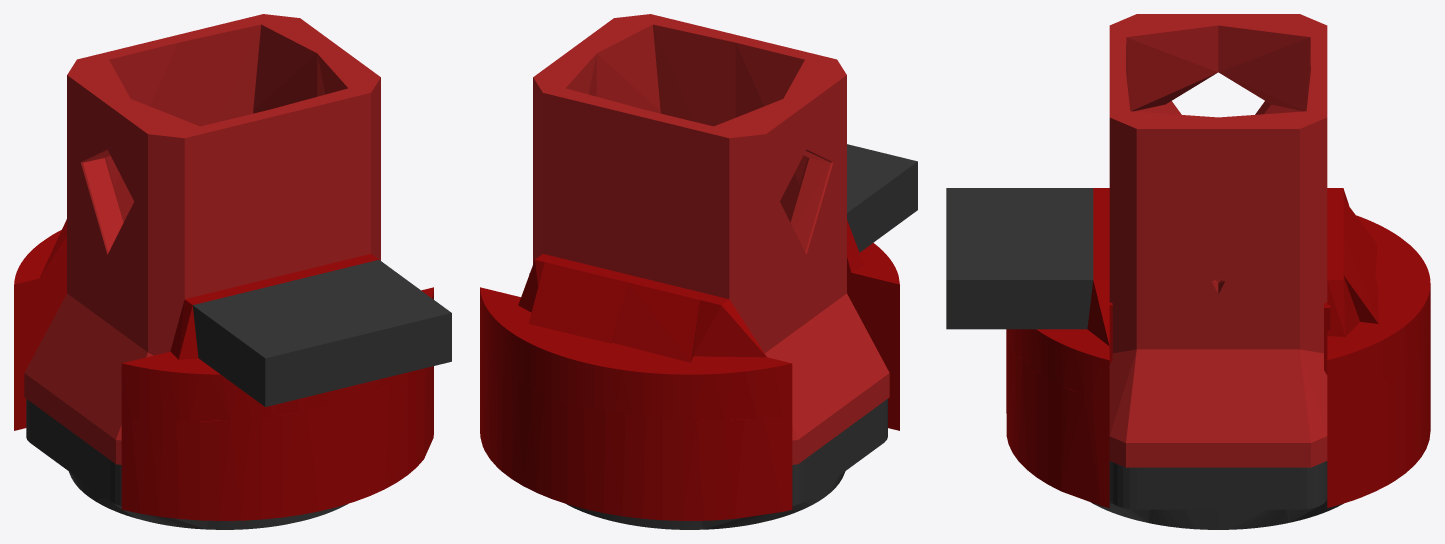
File: LARM_LINK1_mesh.dae
The picture shows the model from 3 angles, left to right: view 1: azimuth 30°, elevation 25°; view 2: azimuth 150°, elevation 25°; view 3: azimuth 270°, elevation 25°; orthographic projection.
Parts seen in each view (by area): view 1: LARM_LINK1 (×5); view 2: LARM_LINK1 (×5); view 3: LARM_LINK1 (×5).
Boxes of the visible parts, x1,y1,x2,y2 form: LARM_LINK1 (×5): [14, 14, 451, 529]; LARM_LINK1 (×5): [480, 14, 917, 529]; LARM_LINK1 (×5): [946, 14, 1430, 529].
Size of the model in its own units: 0.067 by 0.08 by 0.089.
